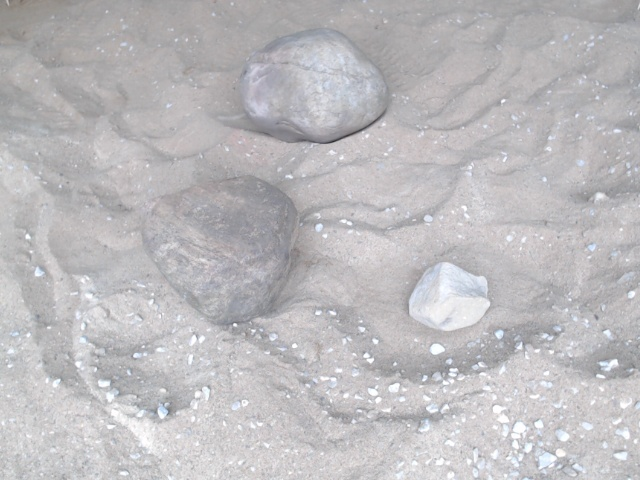rock: (138, 171, 303, 330), (230, 23, 394, 148), (402, 258, 494, 336)
